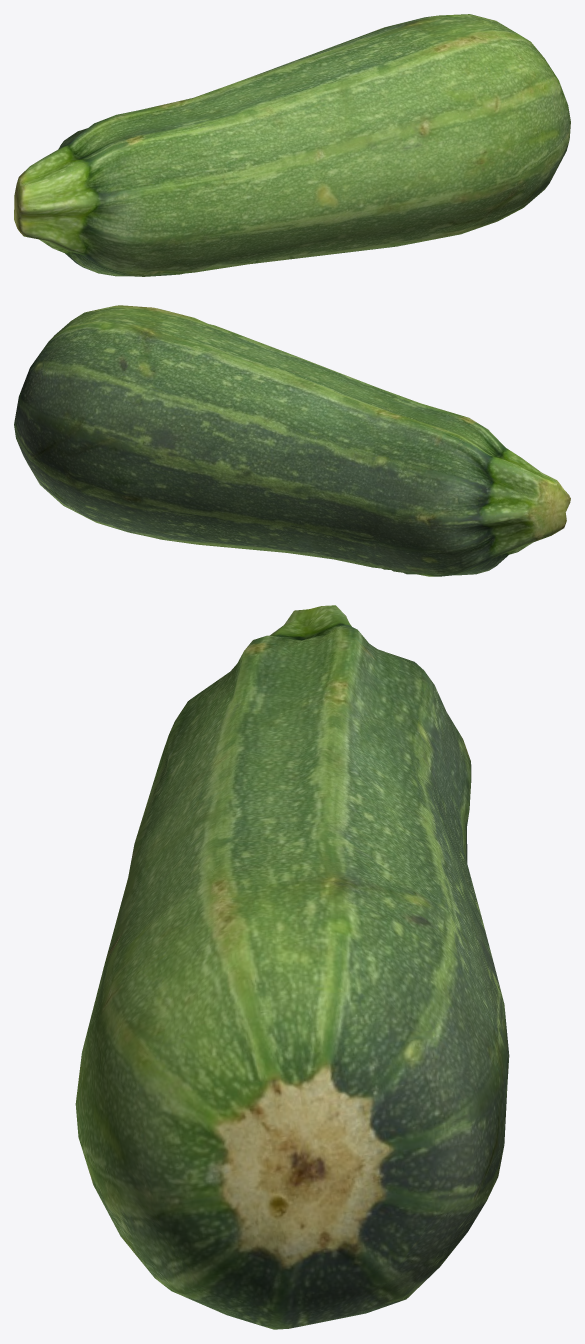
File: 10_zucchini.glb
The picture shows the model from 3 angles, top to bottom: view 1: azimuth 30°, elevation 25°; view 2: azimuth 150°, elevation 25°; view 3: azimuth 270°, elevation 25°; orthographic projection. The views are drawn at different scales.
Visible parts, largest first — view 1: 10_zucchini; view 2: 10_zucchini; view 3: 10_zucchini.
Boxes of the visible parts, x1,y1,x2,y2 form: 10_zucchini: (14,14,570,276); 10_zucchini: (14,305,570,576); 10_zucchini: (75,605,509,1329).
Size of the model in its own units: 1.35 by 0.4883 by 0.4759.
1 material, 1 textured.
